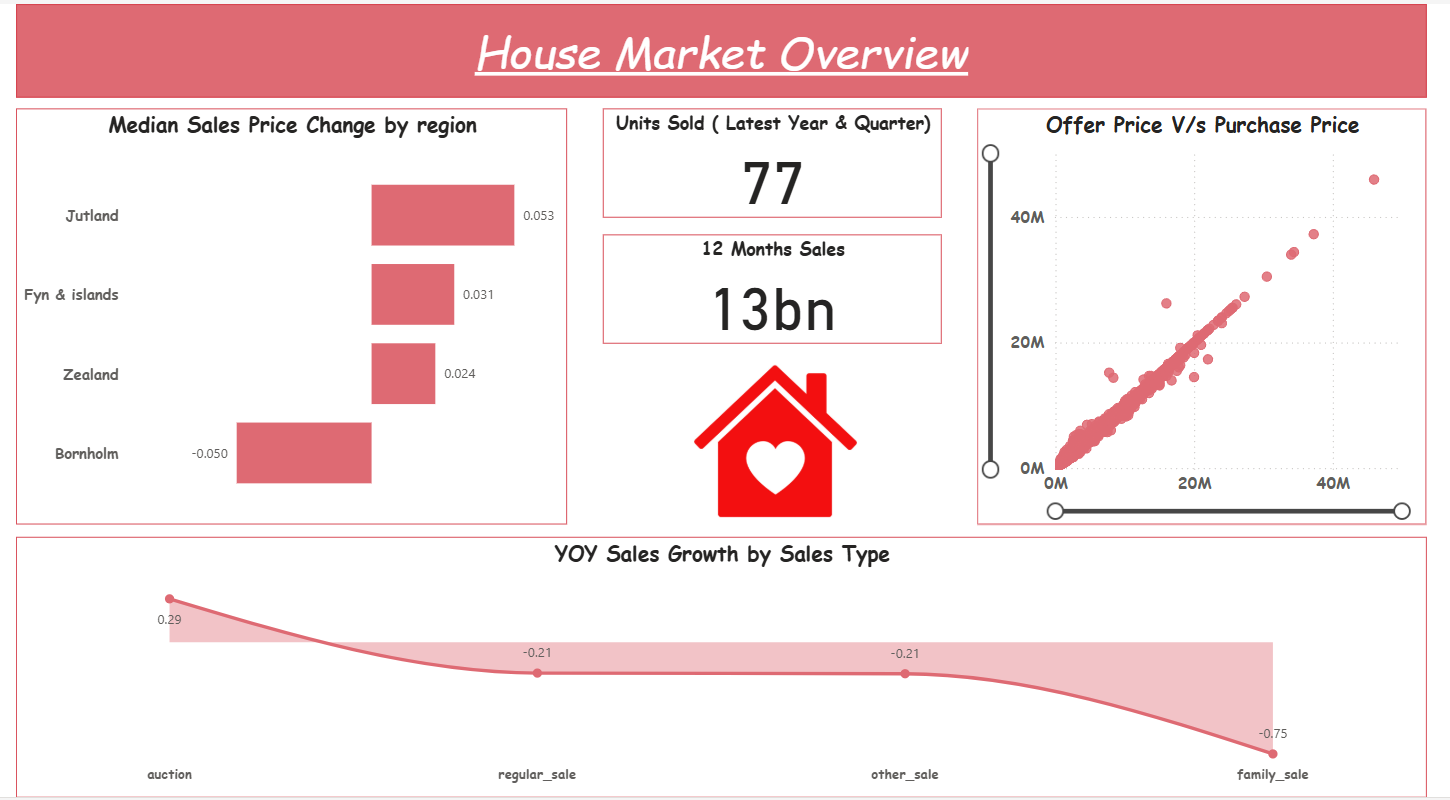

Layout of this report page (visuals, bound fields, positions):
{"tool":"powerbi","page":{"name":"House Market Overview","canvas":[1280,720],"ordinal":0},"visuals":[{"type":"lineChart","title":"YOY Sales Growth by Sales Type","fields":{"Y":["Housing.YOY_Sales_Growth"],"Category":["Housing.sales_type"]},"box":[0,483.8,1280,236.2],"z":0},{"type":"scatterChart","title":"Offer Price V/s Purchase Price","fields":{"X":["Housing.purchase_price"],"Y":["Housing.Offer Price"]},"box":[872.5,95,407.5,377.5],"z":1000},{"type":"barChart","fields":{"Y":["Housing.Median Sales Price Change"],"Category":["Housing.region"]},"box":[0,95,500,377.5],"z":2000},{"type":"card","title":"Units Sold ( Latest Year & Quarter)","fields":{"Values":["Housing.Units sold in latest Year & Quarter"]},"box":[532.5,95,307.5,98.8],"z":3000},{"type":"card","title":"12 Months Sales","fields":{"Values":["Housing.Last 12 Month Sales"]},"box":[532.5,208.8,307.5,98.8],"z":4000},{"type":"image","box":[600,307.5,171.2,176.2],"z":5000},{"type":"shape","box":[0,0,1280,85],"z":6000}]}

Visuals, with their boxes in screenshot pixels (x1, y1, x2, y2), scaled from the page's 1280x720 canvas onto the 1450x800 screenshot:
"YOY Sales Growth by Sales Type" lineChart: (left=0, top=538, right=1449, bottom=799)
"Offer Price V/s Purchase Price" scatterChart: (left=988, top=106, right=1449, bottom=525)
barChart - Housing.Median Sales Price Change x Housing.region: (left=0, top=106, right=566, bottom=525)
"Units Sold ( Latest Year & Quarter)" card: (left=603, top=106, right=952, bottom=215)
"12 Months Sales" card: (left=603, top=232, right=952, bottom=342)
image: (left=680, top=342, right=874, bottom=537)
shape: (left=0, top=0, right=1449, bottom=94)
